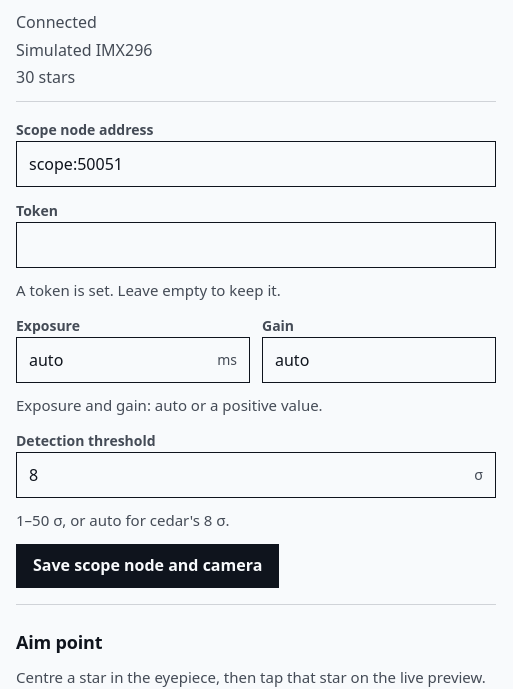
Scenario: Setup's scope node and camera › shows a save refusal without losing the entered values
This screenshot has width=513, height=689.
(page scrolled)
Step 1. Replace the text in the field labelled "Gain" with "20" → (379, 360), box [263,338,495,382]
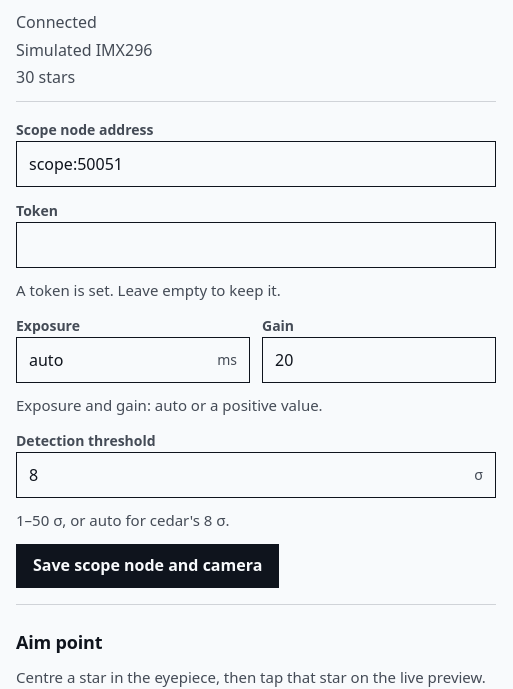
Step 2. Click the button "Save scope node and camera" → (148, 566), box [16,544,279,588]
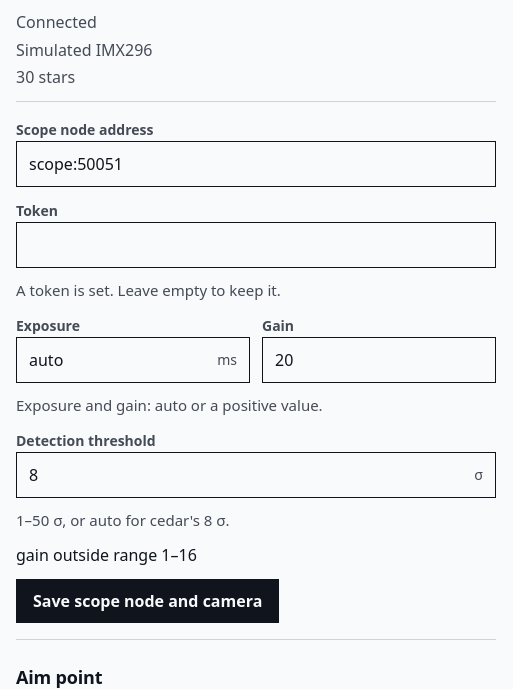
Check: the button "Save scope node and camera" is enabled, box [16,579,279,623]
Check: the text "gain outside range 1–16" is shown, box [16,544,197,566]
